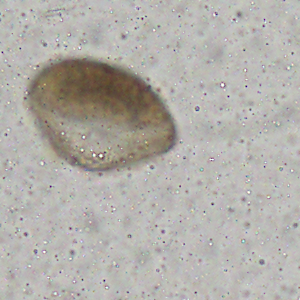Fasciola_hepatica_egg: (24, 55, 180, 172)
